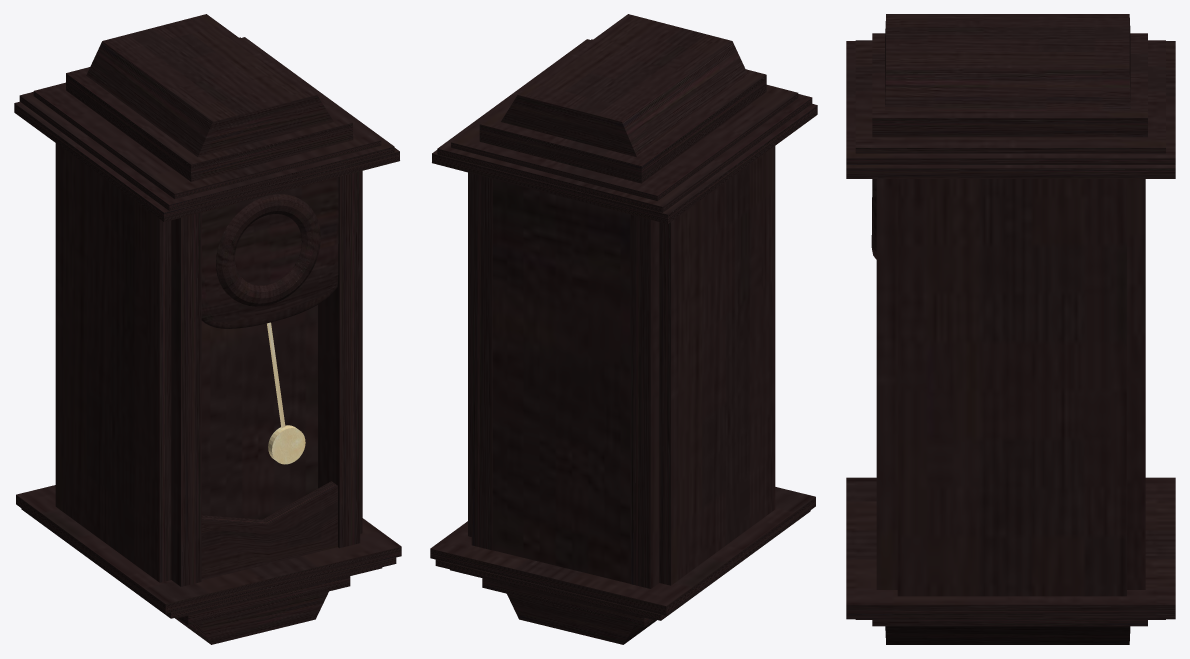
Rendered from old clock.fbx.
3 views of the same model, side by side, from view 1: azimuth 30°, elevation 25°; view 2: azimuth 150°, elevation 25°; view 3: azimuth 270°, elevation 25° (orthographic). The views are drawn at different scales.
Parts seen in each view (by area): view 1: Cube.017, Cube, Cube.010, Cube.006, Cube.015, Cube.007, Cube.001, Cube.014, Cube.009, Cube.011, Torus, Cube.012 (+6 smaller); view 2: Cube.008, Cube.017, Cube.010, Cube.007, Cube.001, Cube.006, Cube.009, Cube.011, Cube.012, Cube.013, Cube.004, Cube.002 (+2 smaller); view 3: Cube.018, Cube.010, Cube.006, Cube.001, Cube.009, Cube.011, Cube.012, Cube.004, Cube.013, Cube.005, Cube.002.
Boxes of the visible parts, x1=… form: Cube.017: x1=55, y1=143, x2=171, y2=582; Cube: x1=201, y1=305, x2=317, y2=519; Cube.010: x1=86, y1=14, x2=333, y2=156; Cube.006: x1=318, y1=171, x2=360, y2=548; Cube.015: x1=201, y1=177, x2=338, y2=328; Cube.007: x1=171, y1=212, x2=201, y2=586; Cube.001: x1=16, y1=485, x2=401, y2=613; Cube.014: x1=201, y1=481, x2=337, y2=580; Cube.009: x1=66, y1=67, x2=353, y2=181; Cube.011: x1=33, y1=37, x2=381, y2=199; Torus: x1=216, y1=194, x2=320, y2=306; Cube.012: x1=19, y1=37, x2=394, y2=210; Cube.008: x1=492, y1=179, x2=630, y2=583; Cube.017: x1=659, y1=146, x2=775, y2=585; Cube.010: x1=501, y1=14, x2=748, y2=156; Cube.007: x1=630, y1=214, x2=659, y2=588; Cube.001: x1=430, y1=487, x2=815, y2=615; Cube.006: x1=471, y1=173, x2=492, y2=550; Cube.009: x1=479, y1=69, x2=766, y2=183; Cube.011: x1=451, y1=39, x2=798, y2=200; Cube.012: x1=437, y1=39, x2=812, y2=212; Cube.013: x1=432, y1=103, x2=817, y2=224; Cube.004: x1=507, y1=594, x2=655, y2=644; Cube.002: x1=435, y1=510, x2=810, y2=620; Cube.018: x1=897, y1=179, x2=1126, y2=596; Cube.010: x1=885, y1=14, x2=1130, y2=110; Cube.006: x1=876, y1=179, x2=1145, y2=589; Cube.001: x1=846, y1=477, x2=1175, y2=615; Cube.009: x1=872, y1=33, x2=1147, y2=137; Cube.011: x1=855, y1=40, x2=1165, y2=153; Cube.012: x1=846, y1=41, x2=1175, y2=164; Cube.004: x1=885, y1=626, x2=1130, y2=644; Cube.013: x1=846, y1=165, x2=1175, y2=178; Cube.005: x1=872, y1=620, x2=1147, y2=626; Cube.002: x1=846, y1=615, x2=1175, y2=619.
Bounding box in the file's own units: 224 × 471 × 244.
